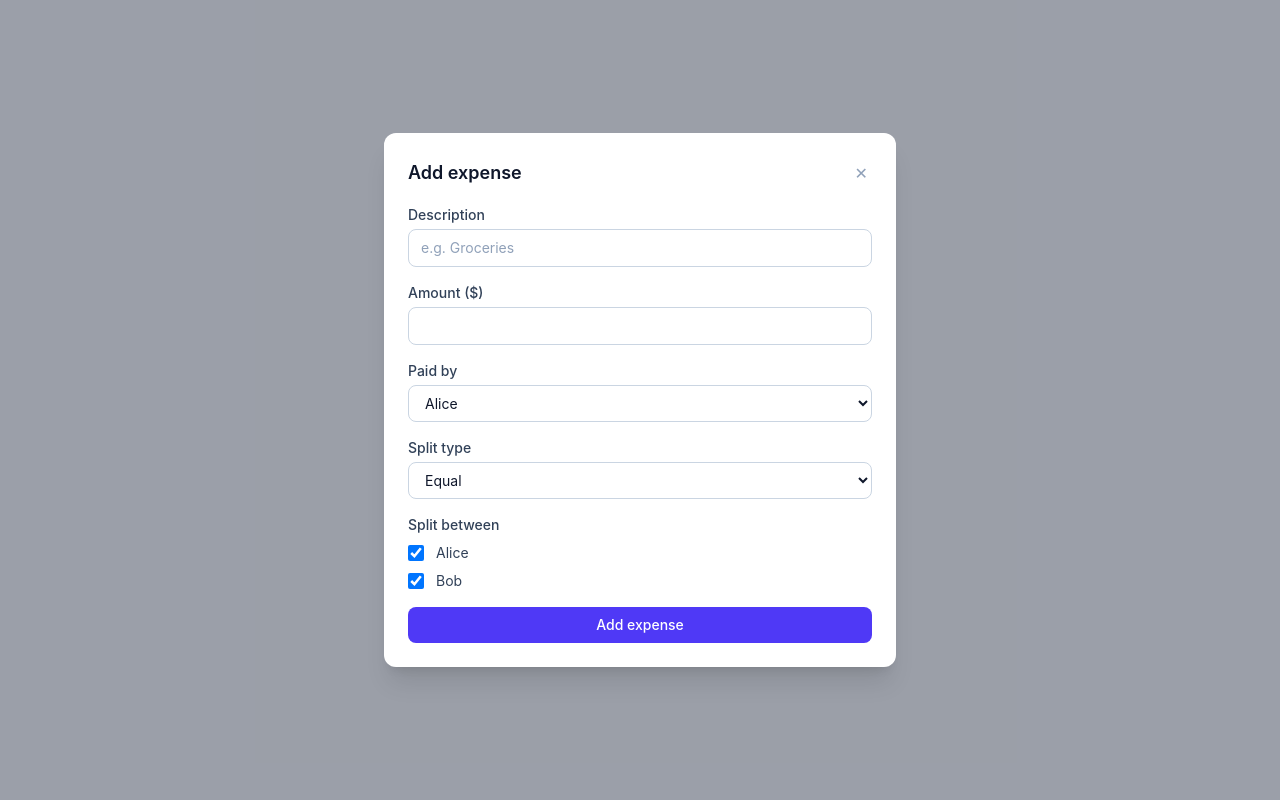
Scenario: AddExpenseModal › shows the server error and keeps the modal open when submission fails
This screenshot has width=1280, height=800.
Type "Dinner" into the field labelled "Description".
click(640, 248); type("Dinner")  # box [408,229,872,267]
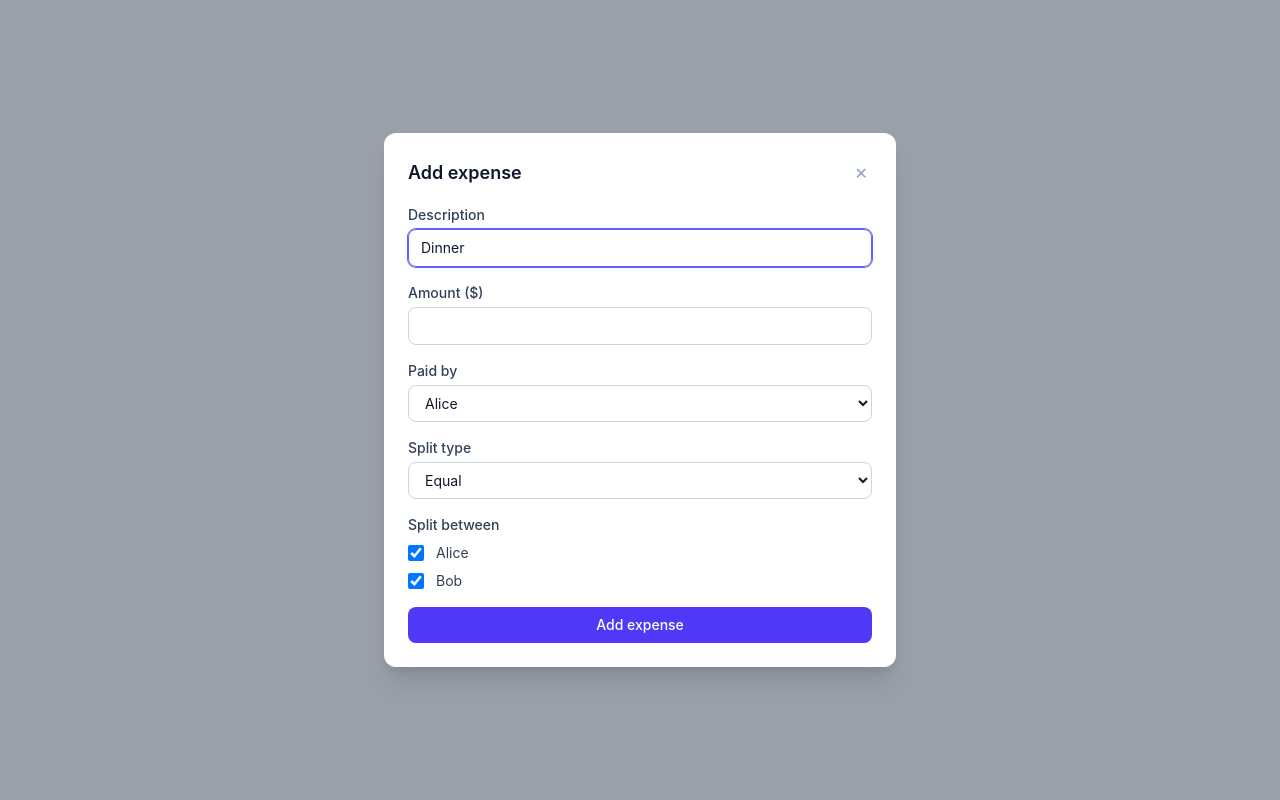
Type "10" into the number field labelled "Amount ($)".
click(640, 326); type("10")  # box [408,307,872,345]
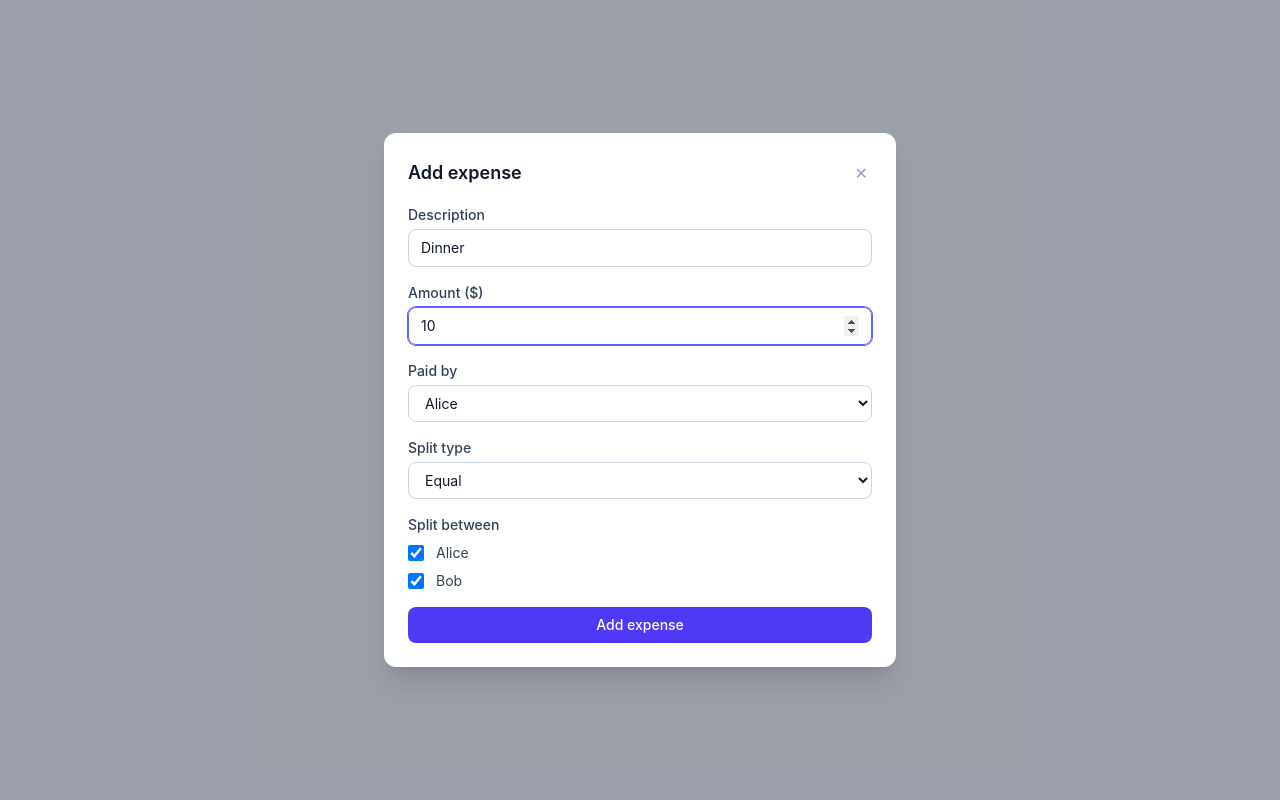
Click the button "Add expense".
click(640, 625)  # box [408,607,872,643]
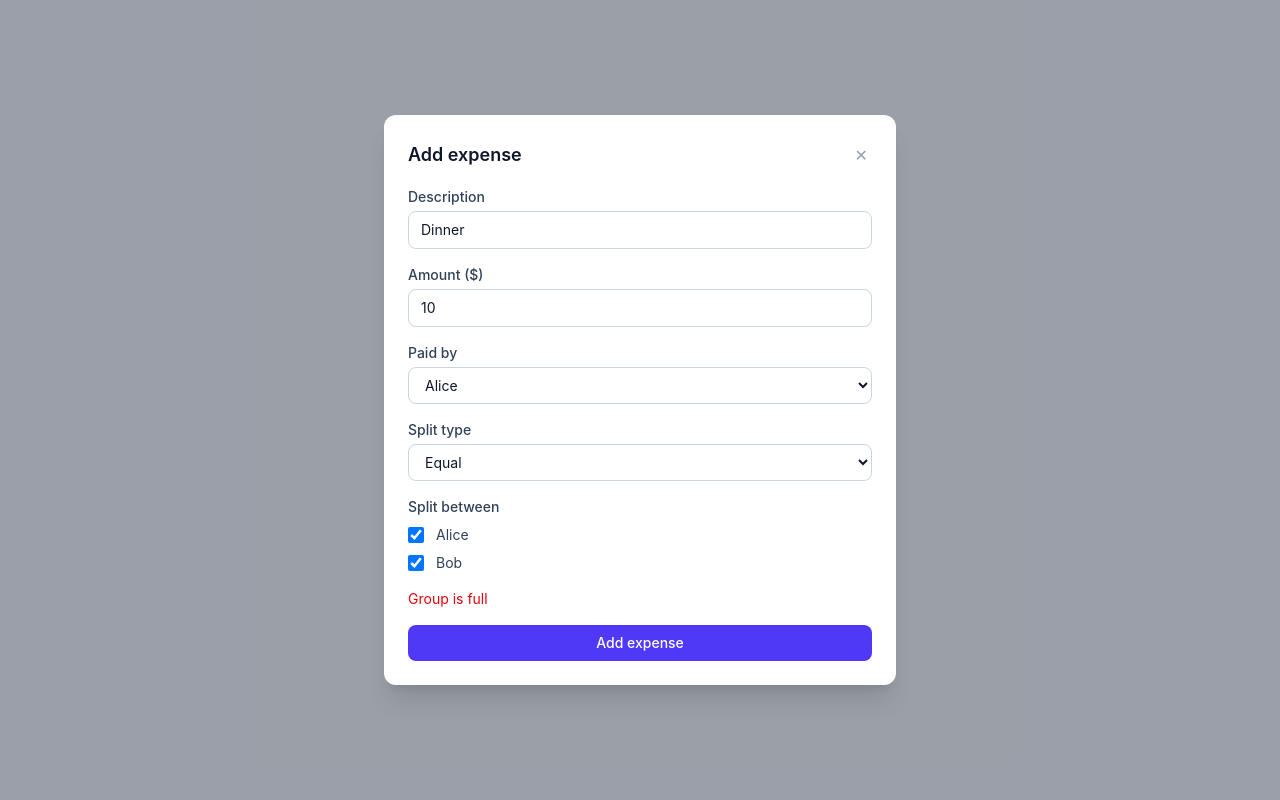
Now the text "Group is full" is shown, box [408,590,488,607]
